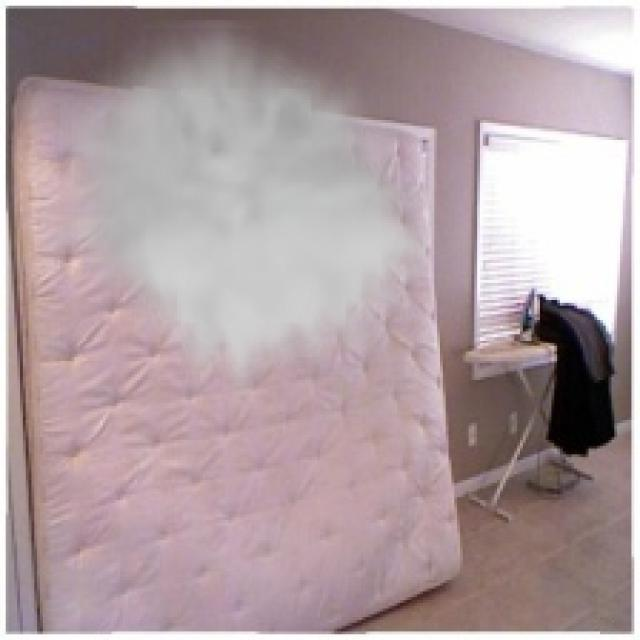Smoke: (60, 19, 429, 394)
